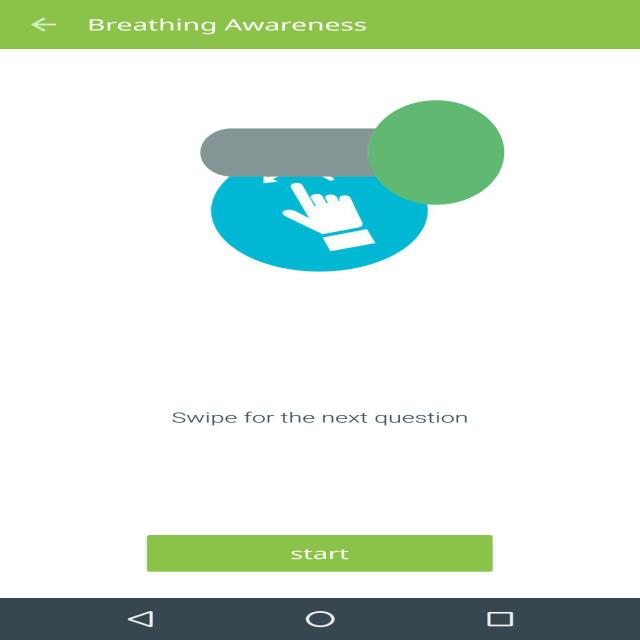social proof: (200, 36, 504, 269)
